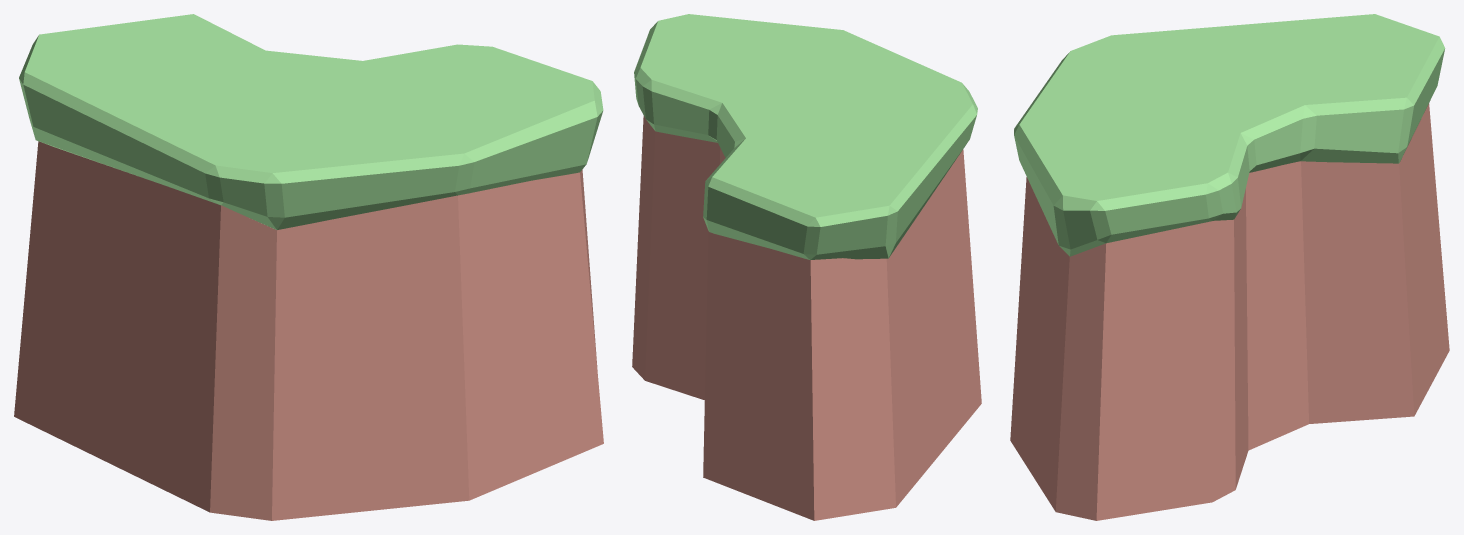
The model's file is Plane_009_Vlad.fbx.
The picture shows the model from 3 angles, left to right: view 1: azimuth 30°, elevation 25°; view 2: azimuth 150°, elevation 25°; view 3: azimuth 270°, elevation 25°; orthographic projection. The views are drawn at different scales.
Visible parts, largest first — view 1: Plane.009; view 2: Plane.009; view 3: Plane.009.
Boxes of the visible parts, x1,y1,x2,y2 form: Plane.009: [14, 14, 603, 520]; Plane.009: [632, 14, 981, 520]; Plane.009: [1010, 14, 1449, 520].
Size of the model in its own units: 277 by 209 by 264.
